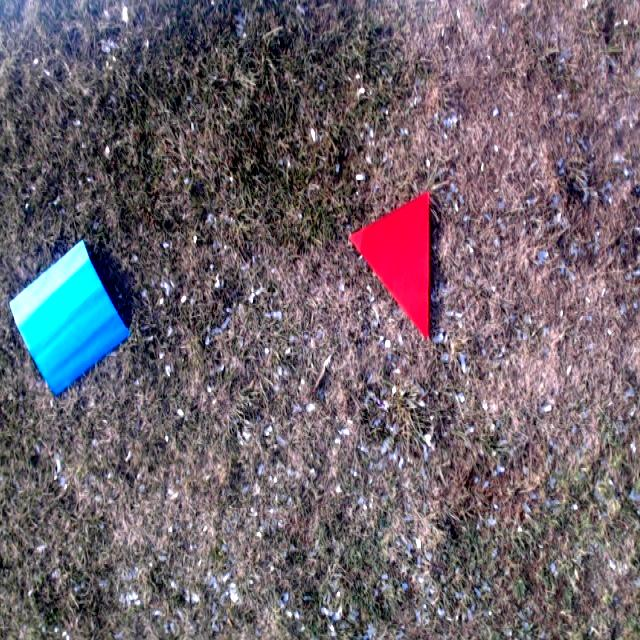blue_square: (6, 239, 133, 399)
red_triangle: (347, 190, 431, 343)
